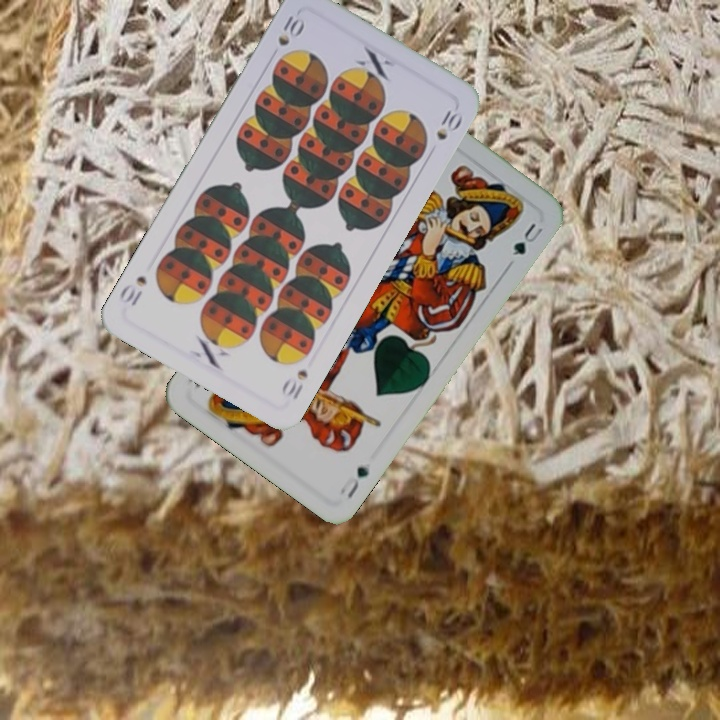GU: (335, 462, 372, 501)
S10: (277, 365, 311, 403), (273, 11, 305, 49)
